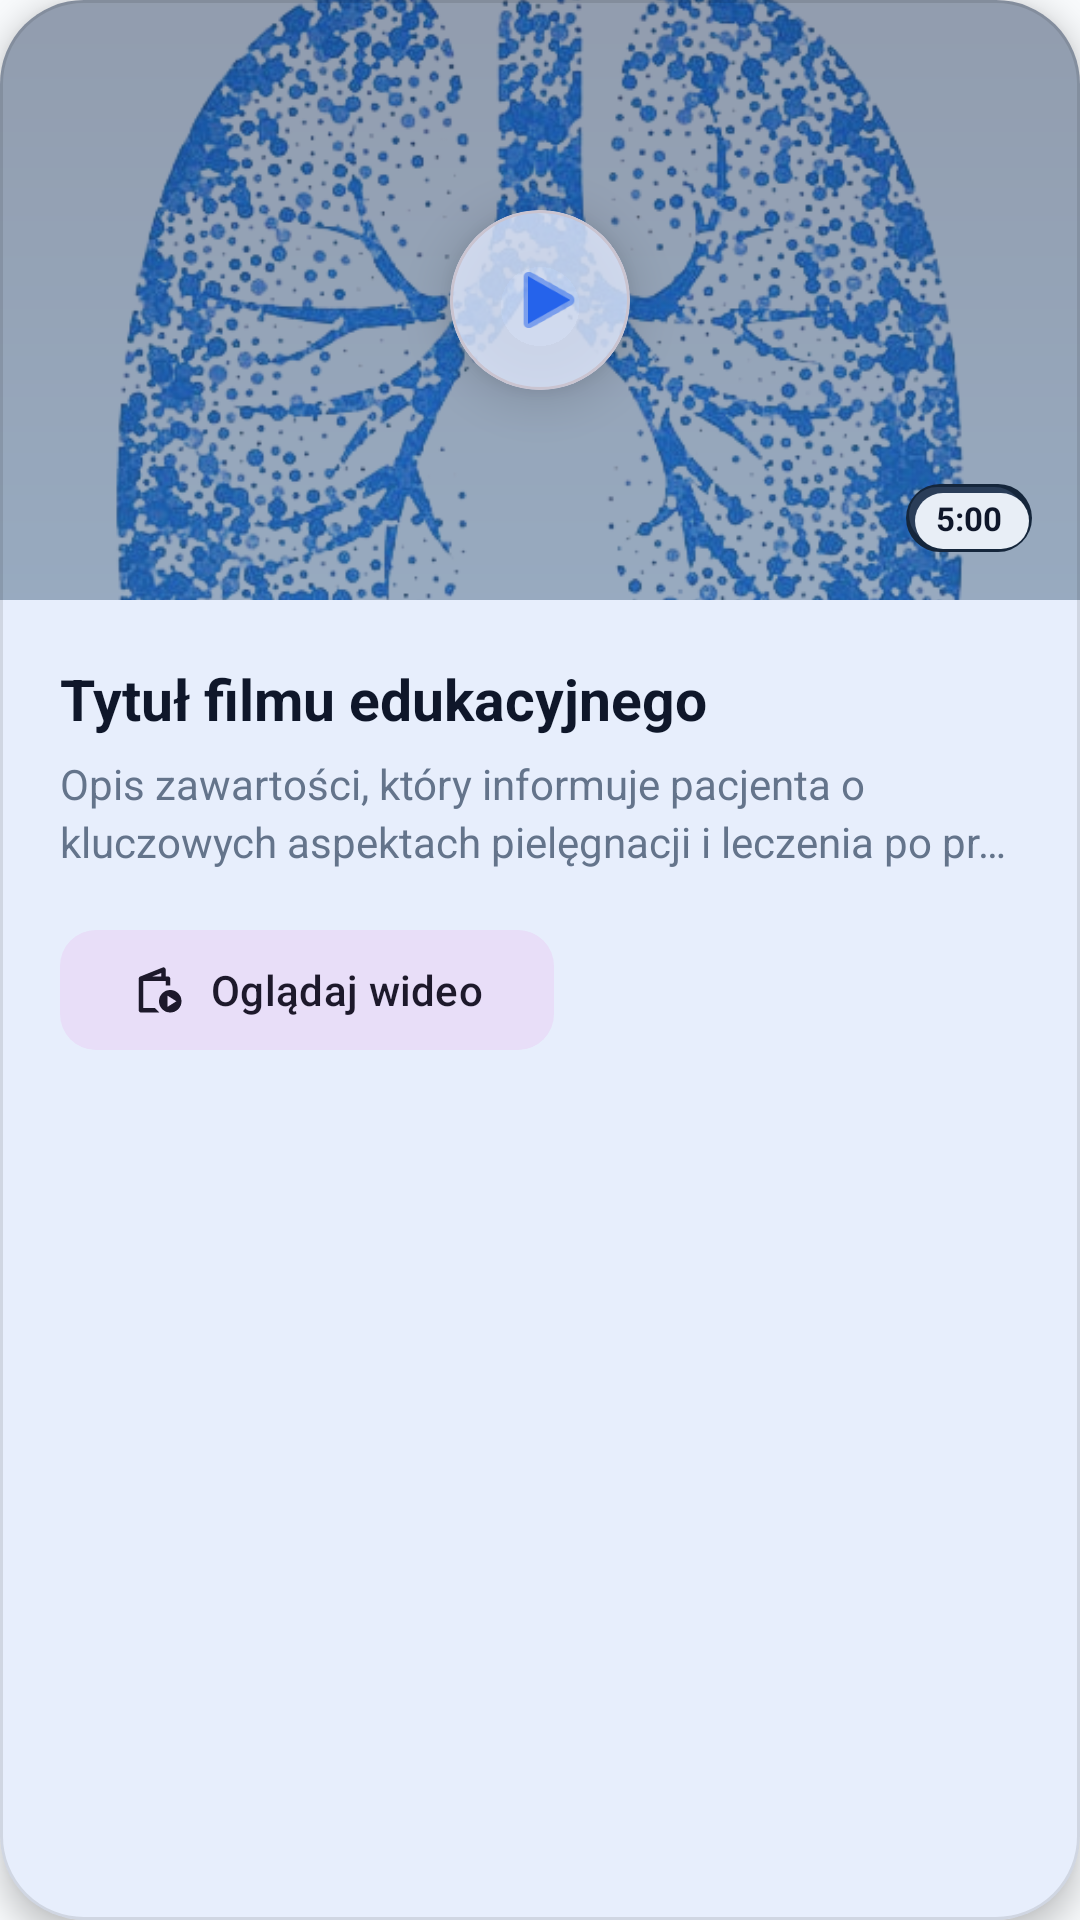

Icon click points for this 1080px×1920px phone screenshot, format [x,y]:
play: [549,300]
